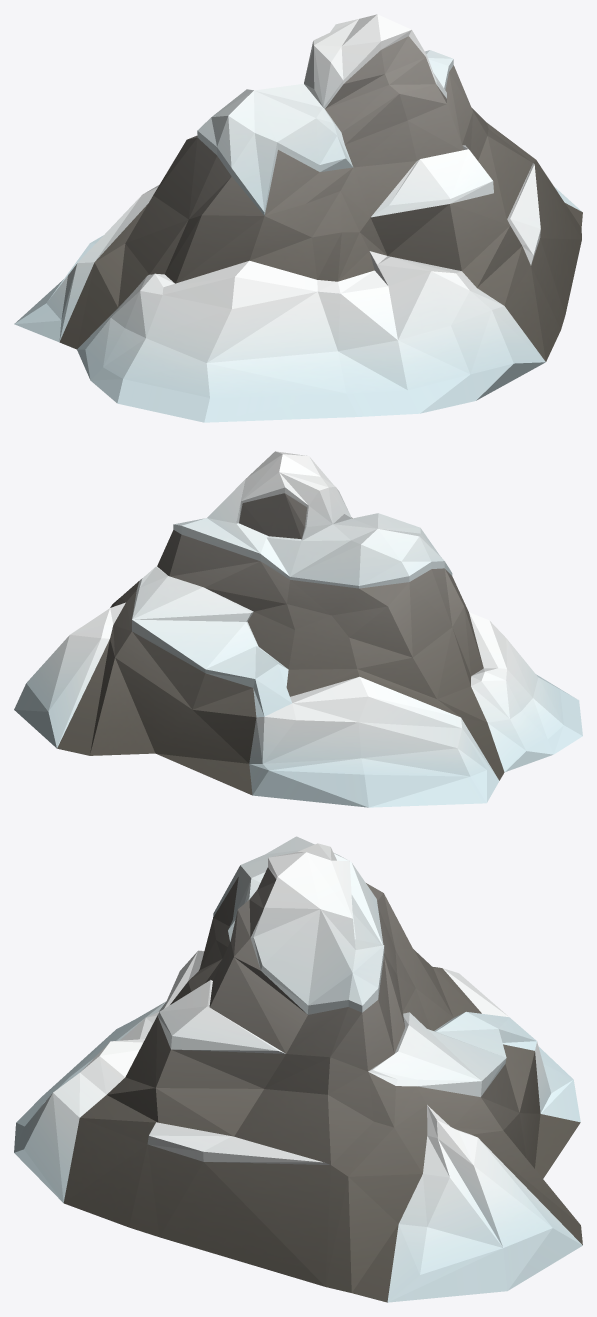
File: HX-shan3.FBX
The picture shows the model from 3 angles, top to bottom: view 1: azimuth 30°, elevation 25°; view 2: azimuth 150°, elevation 25°; view 3: azimuth 270°, elevation 25°; orthographic projection. The views are drawn at different scales.
Visible parts, largest first — view 1: shan3; view 2: shan3; view 3: shan3.
Part boxes in pixels (box(x1,y1,x2,y2)): shan3: box(14, 14, 582, 422); shan3: box(14, 451, 582, 807); shan3: box(14, 836, 582, 1302).
Size of the model in its own units: 17745 by 8819 by 14297.
